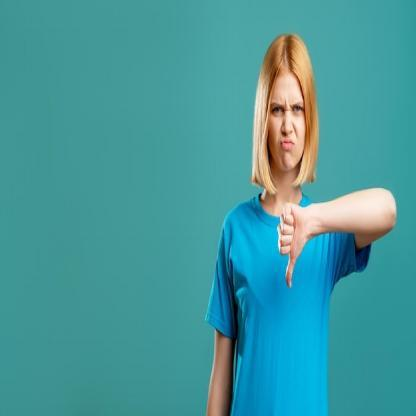thumb_down: (274, 199, 309, 291)
